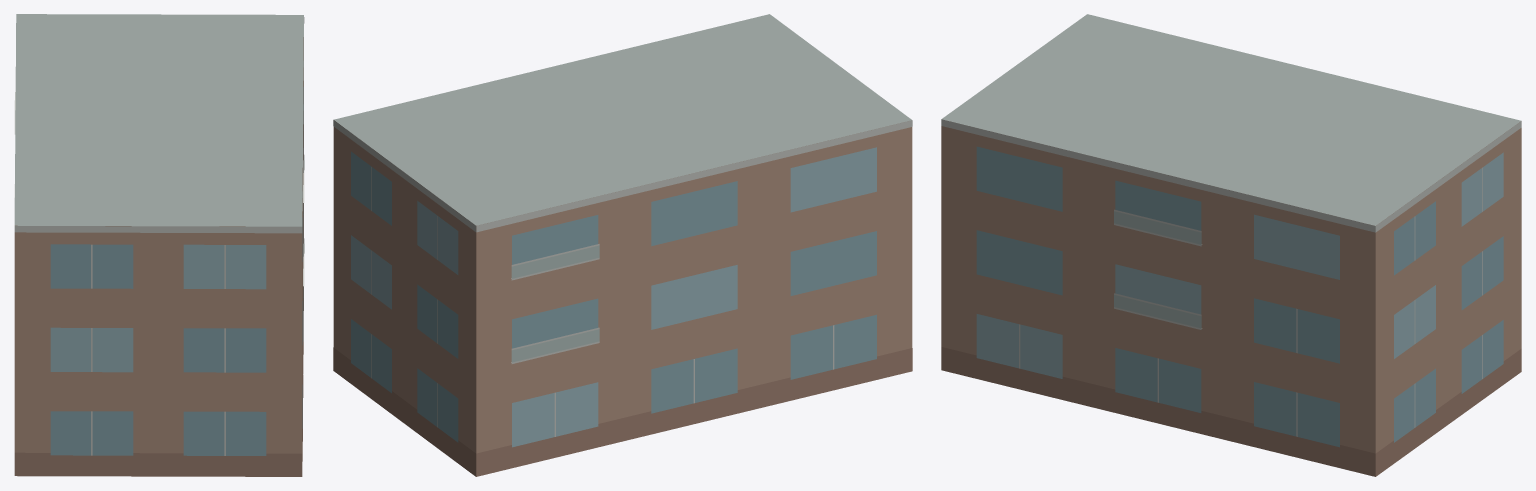
Rendered from survey-upis-32718101.glb.
The picture shows the model from 3 angles, left to right: view 1: azimuth 30°, elevation 25°; view 2: azimuth 150°, elevation 25°; view 3: azimuth 270°, elevation 25°; orthographic projection.
Visible parts, largest first — view 1: survey-upis-32718101.tmp; view 2: survey-upis-32718101.tmp; view 3: survey-upis-32718101.tmp.
Part boxes in pixels (box(x1,y1,x2,y2)): survey-upis-32718101.tmp: box(14, 14, 304, 476); survey-upis-32718101.tmp: box(333, 14, 912, 476); survey-upis-32718101.tmp: box(941, 14, 1521, 476).
Bounding box in the file's own units: 16.58 × 9.15 × 19.19.
